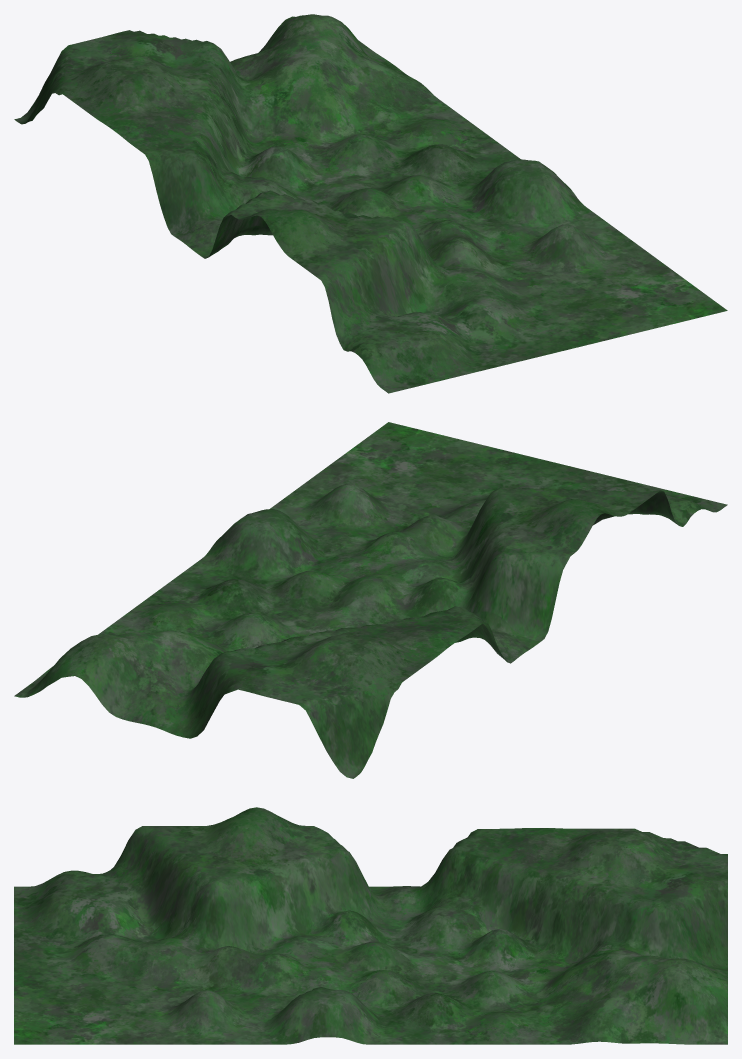
File: BackgroundMain.fbx
The picture shows the model from 3 angles, top to bottom: view 1: azimuth 30°, elevation 25°; view 2: azimuth 150°, elevation 25°; view 3: azimuth 270°, elevation 25°; orthographic projection. The views are drawn at different scales.
Visible parts, largest first — view 1: polySurface37; view 2: polySurface37; view 3: polySurface37.
Part boxes in pixels (<box>): polySurface37: <box>14,14,727,393</box>; polySurface37: <box>14,422,727,778</box>; polySurface37: <box>14,807,727,1044</box>.
Bounding box in the file's own units: 42.6 × 10.06 × 81.42.
